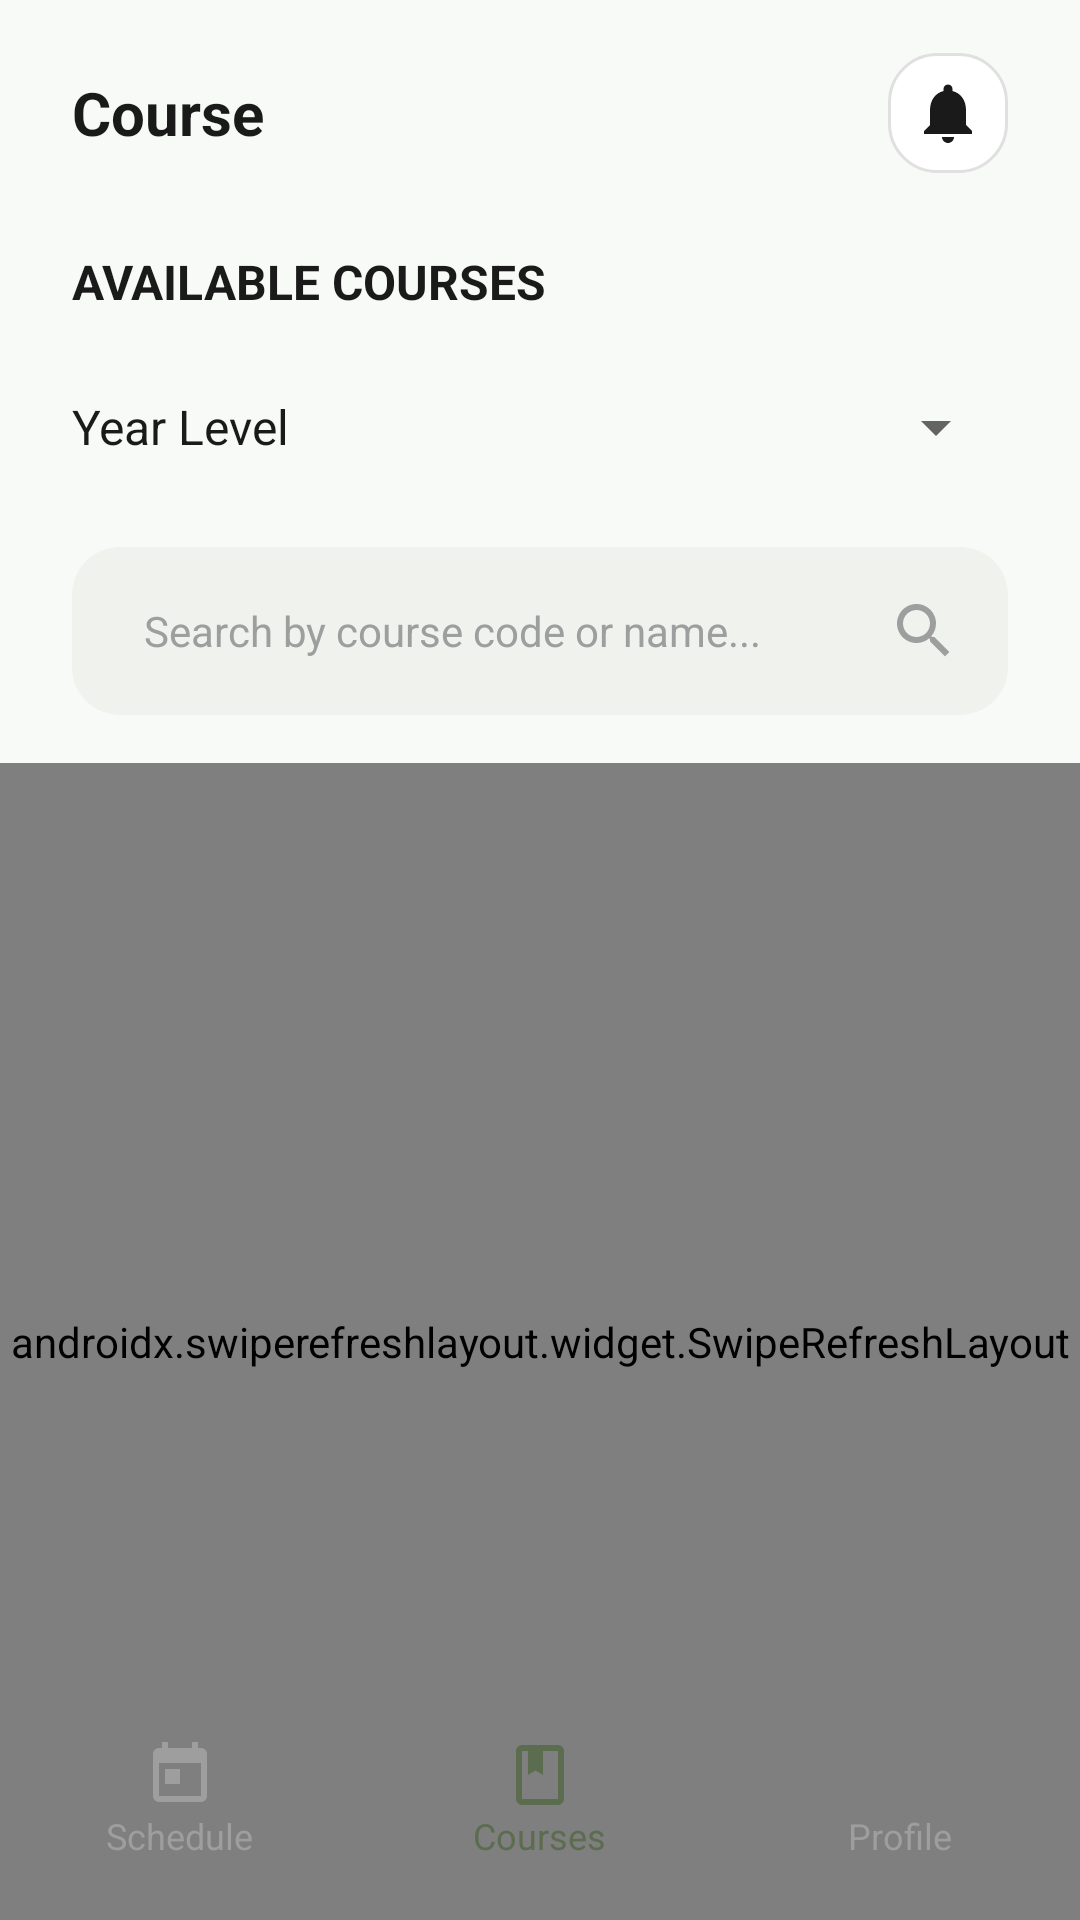

Named icons in this screenshot (1080 × 1920) and their bounding boxes, region(x1, y1, x2, y2):
bell: region(888, 53, 1008, 173)
